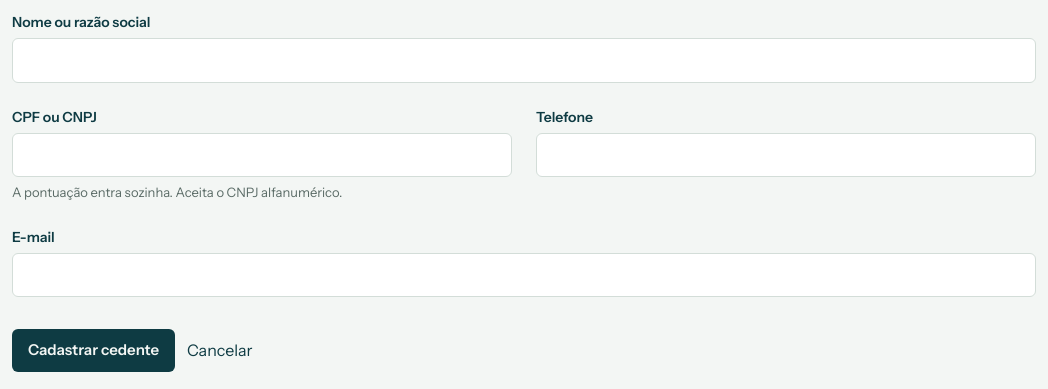
Test: AssignorForm › apaga o dígito antes da pontuação e corrige no meio sem o cursor pular
Type "52998224725" into the field labelled "CPF ou CNPJ" at (262, 155), box [12,132,512,177]
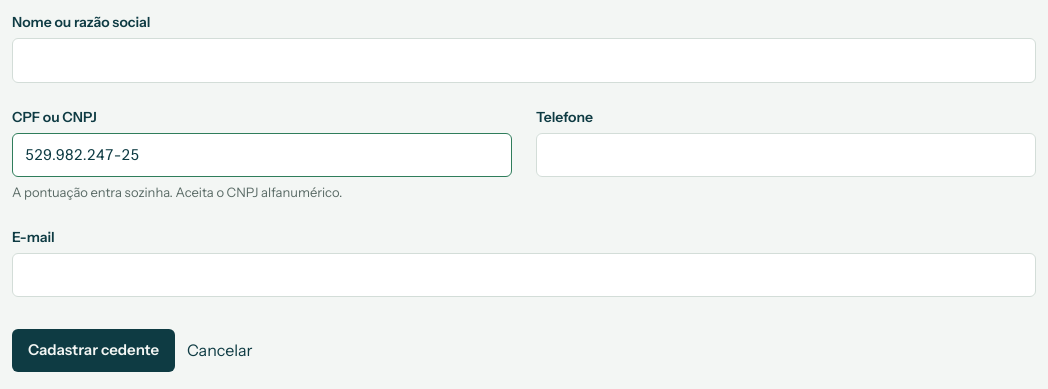
Press Backspace
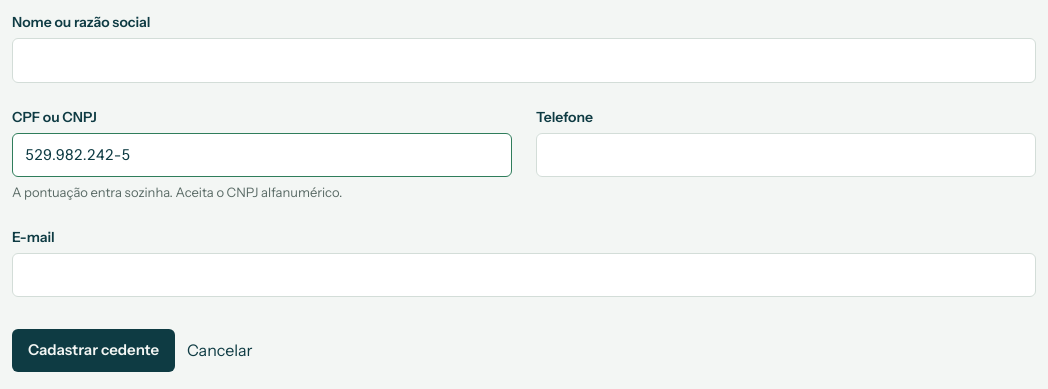
Expected: the field labelled "CPF ou CNPJ" holds "529.982.242-5", [12,132,512,177]
Type keys "7"
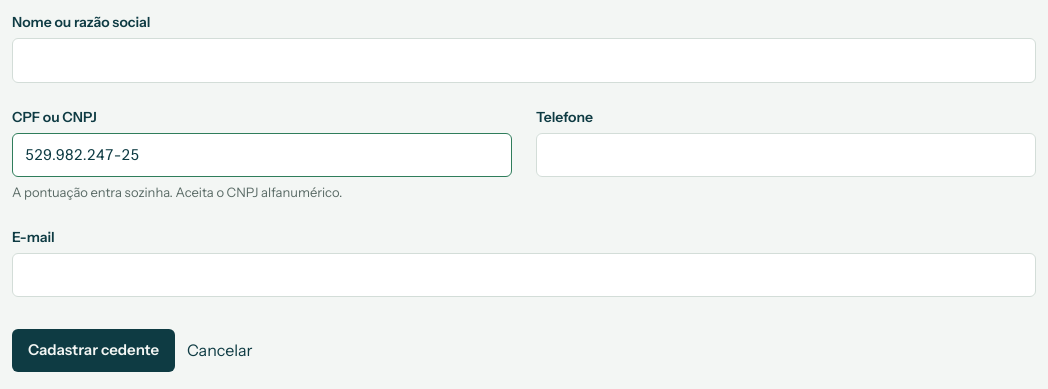
Expected: the field labelled "CPF ou CNPJ" holds "529.982.247-25", [12,132,512,177]
